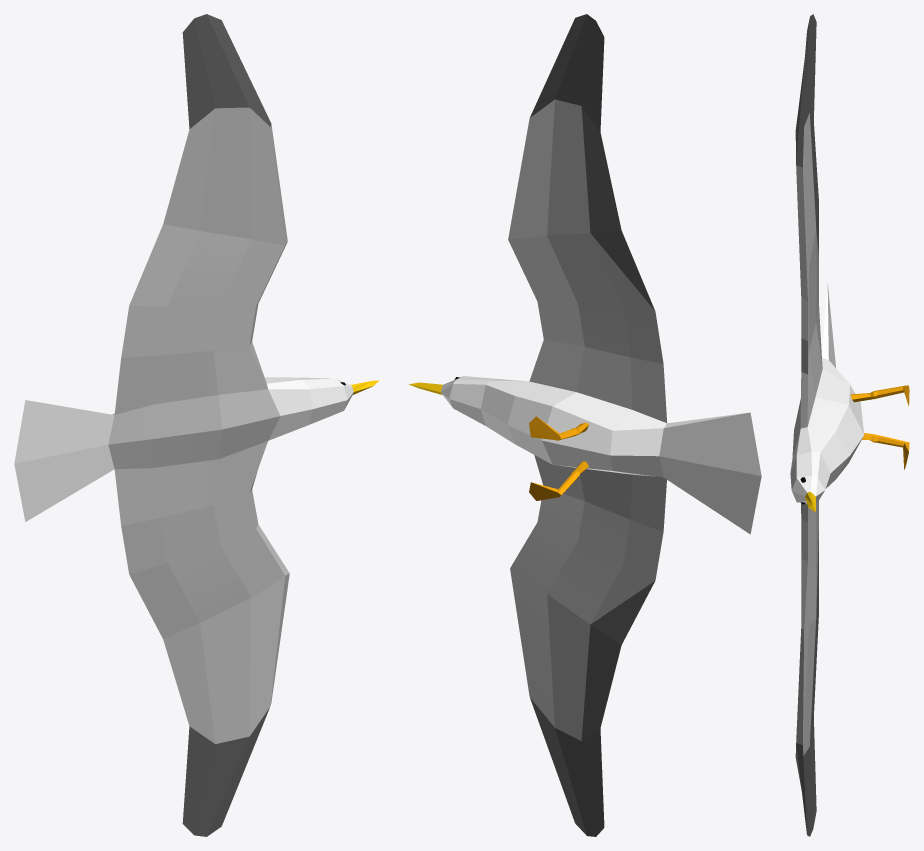
Rendered from Seagull.glb.
3 views of the same model, side by side, from view 1: azimuth 30°, elevation 25°; view 2: azimuth 150°, elevation 25°; view 3: azimuth 270°, elevation 25° (orthographic).
Parts seen in each view (by area): view 1: Seagull; view 2: Seagull; view 3: Seagull.
Part boxes in pixels (x1,y1,x2,y2): Seagull: [14, 14, 379, 836]; Seagull: [409, 14, 761, 836]; Seagull: [790, 14, 909, 836].
Size of the model in its own units: 0.3486 by 0.7624 by 0.1003.
1 material, 1 textured.
